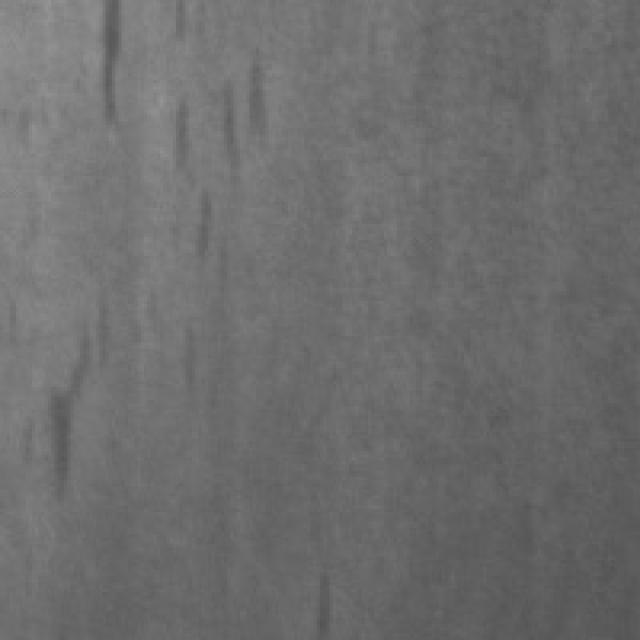inclusion: (157, 0, 269, 272), (3, 278, 125, 509), (176, 179, 234, 323), (74, 0, 134, 131), (298, 557, 336, 630)
